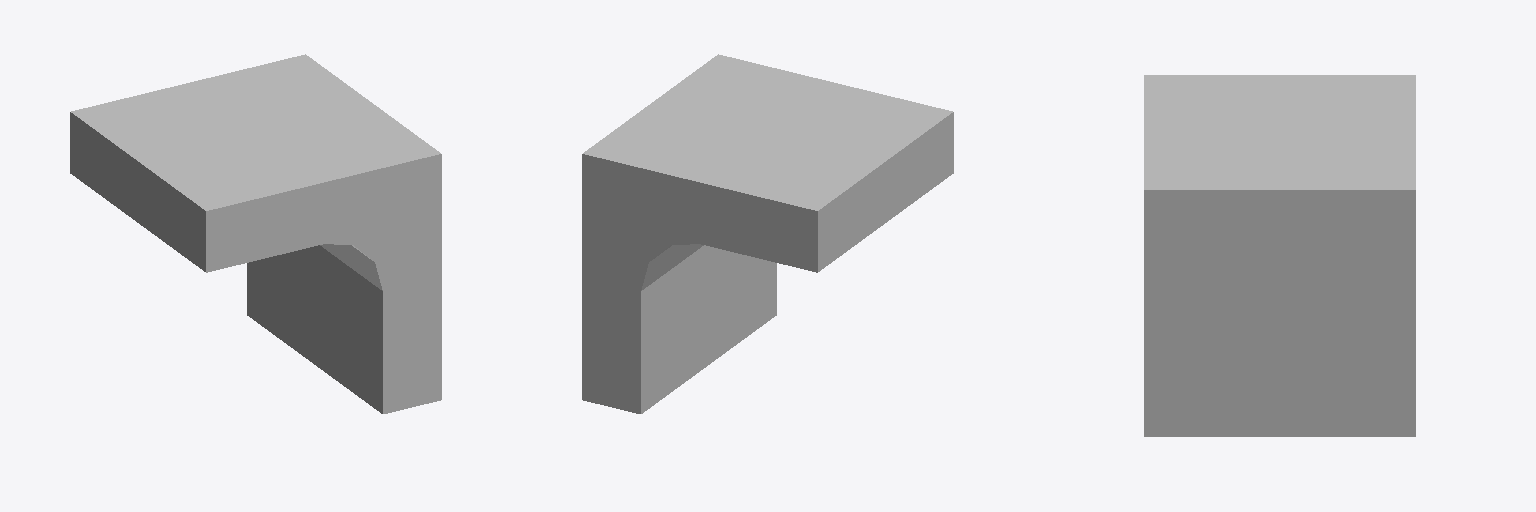
Rendered from wallFortified_gateHalf.obj.
3 renders of one model, left to right at view 1: azimuth 30°, elevation 25°; view 2: azimuth 150°, elevation 25°; view 3: azimuth 270°, elevation 25°, orthographic.
Parts seen in each view (by area): view 1: wallFortified_gateHalf; view 2: wallFortified_gateHalf; view 3: wallFortified_gateHalf.
Part boxes in pixels (left/top/right/bottom): wallFortified_gateHalf: left=70, top=54, right=441, bottom=413; wallFortified_gateHalf: left=582, top=54, right=953, bottom=413; wallFortified_gateHalf: left=1144, top=75, right=1415, bottom=436.
Bounding box in the file's own units: 1 × 1 × 1.